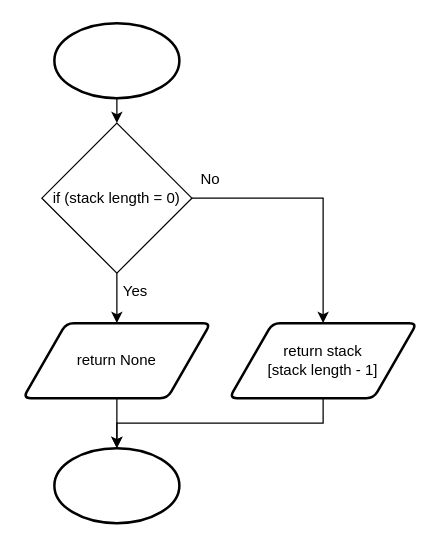
The diagram is 439 pixels wide and 545 high, and some of its shapes have lost their labels. The centre of each missing label's shape, as x and y in pixels:
Start: (116,60)
Stop: (116,485)
